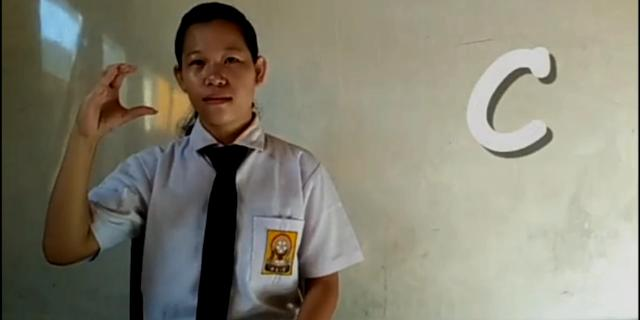C: (72, 62, 158, 140)
